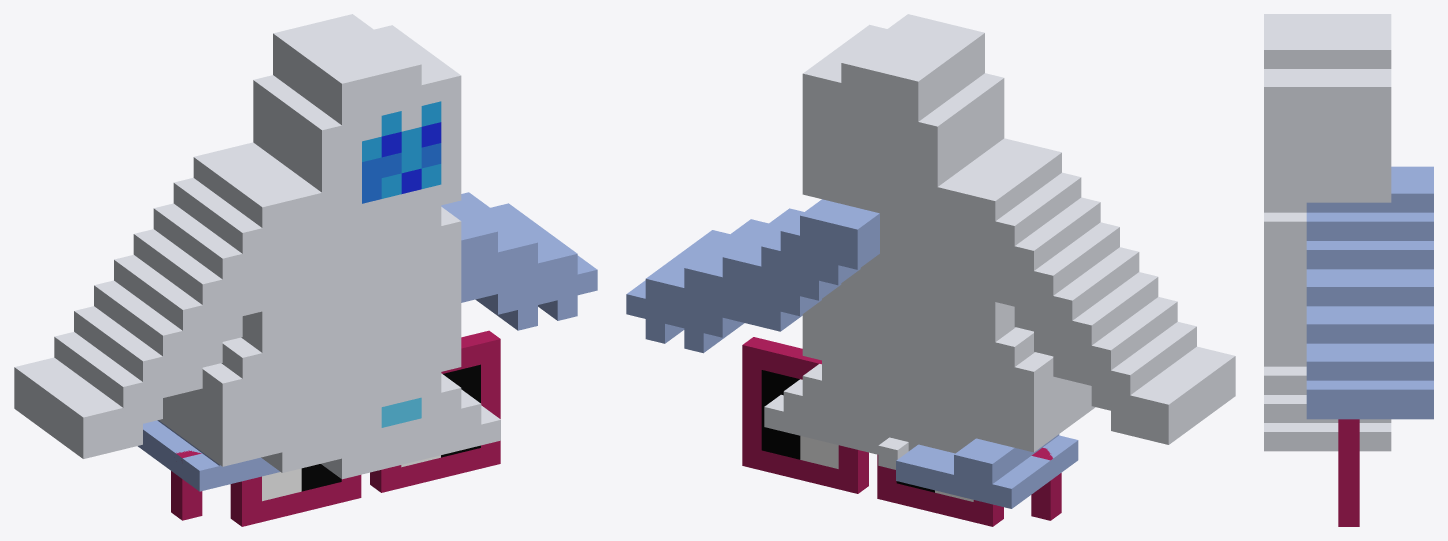
File: yeti.glb
3 renders of one model, left to right at view 1: azimuth 30°, elevation 25°; view 2: azimuth 150°, elevation 25°; view 3: azimuth 270°, elevation 25°, orthographic. The views are drawn at different scales.
Parts seen in each view (by area): view 1: base, glasses, layer-2, mouth; view 2: base, glasses, layer-2, a1; view 3: base, glasses.
Boxes of the visible parts, <box> form: base: <box>14,14,597,491</box>; glasses: <box>171,330,500,526</box>; layer-2: <box>262,364,480,501</box>; mouth: <box>381,397,421,427</box>; base: <box>626,14,1235,508</box>; glasses: <box>742,337,1061,526</box>; layer-2: <box>761,370,973,501</box>; a1: <box>878,437,908,469</box>; base: <box>1264,14,1433,451</box>; glasses: <box>1338,419,1359,526</box>.
Bounding box in the file's own units: 27 × 22 × 8.
Materials: 12 (12 with a texture image).
